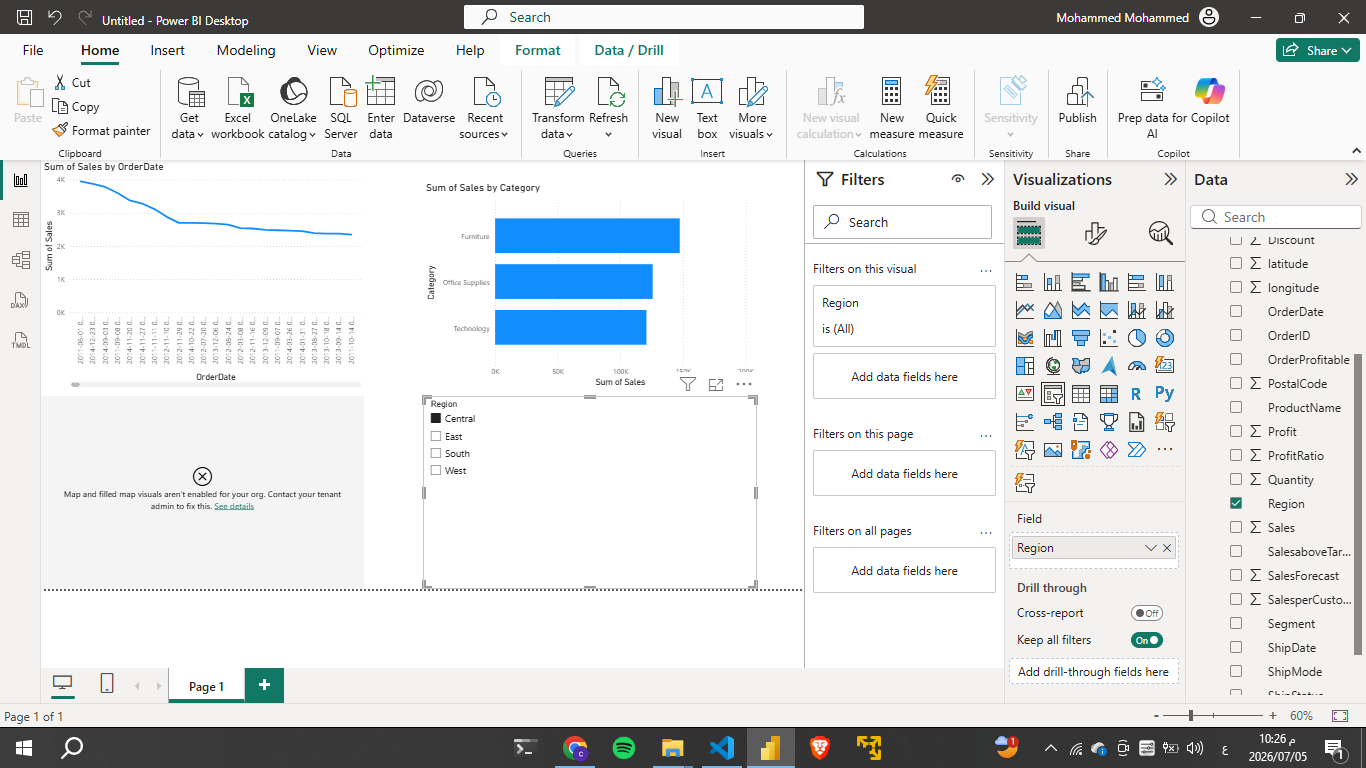

This screenshot's page, from the dashboard's own definition file:
{"tool":"powerbi","page":{"name":"Page 1","canvas":[1280,720],"ordinal":0},"visuals":[{"type":"lineChart","fields":{"Category":["cleaned_data.OrderDate"],"Y":["Sum(cleaned_data.Sales)"]},"box":[0,0,541.9,385.8],"z":0},{"type":"clusteredBarChart","fields":{"Category":["cleaned_data.Category"],"Y":["Sum(cleaned_data.Sales)"]},"box":[640.8,35.2,560.3,350.6],"z":1000},{"type":"map","fields":{"Category":["cleaned_data.State","cleaned_data.City"],"Size":["Sum(cleaned_data.Sales)"]},"box":[0,396,542,324],"z":1001},{"type":"slicer","fields":{"Values":["cleaned_data.Region"]},"box":[641,396,560,324],"z":1002}]}

Visuals, with their boxes on the page's 1280x720 design canvas (x1, y1, x2, y2). These are canvas units, not pixel positions in the 1366x768 screenshot, which may show the page scaled, cropped or inside an application window:
lineChart - cleaned_data.OrderDate x Sum(cleaned_data.Sales): (left=0, top=0, right=542, bottom=386)
clusteredBarChart - cleaned_data.Category x Sum(cleaned_data.Sales): (left=641, top=35, right=1201, bottom=386)
map - cleaned_data.State x cleaned_data.City: (left=0, top=396, right=542, bottom=720)
slicer - cleaned_data.Region: (left=641, top=396, right=1201, bottom=720)
